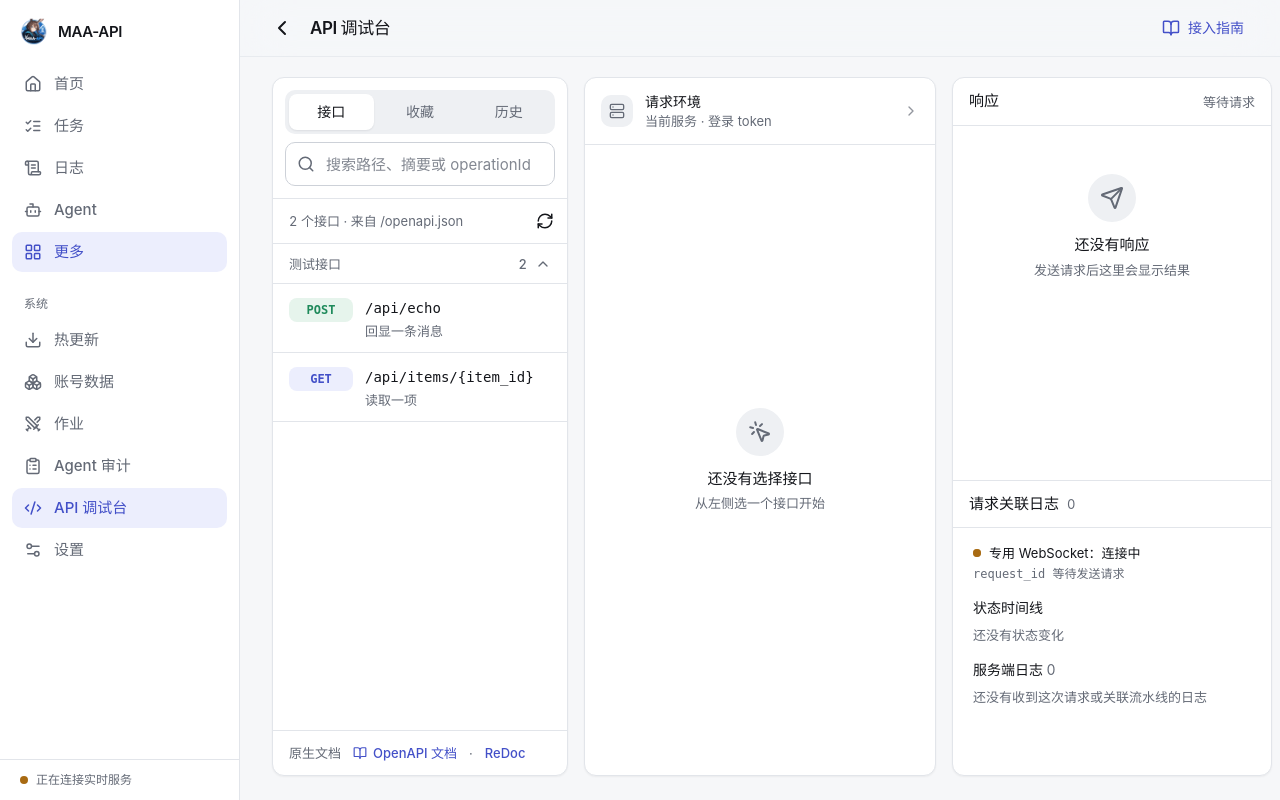
API console › K8 opens an isolated console WebSocket for a remote Base URL without touching shared realtime state or logs
The width and height of the screenshot is (1280, 800).
expect the heading "API 调试台" is shown: met, box [310, 18, 390, 38]
Click the button "请求环境 当前服务 · 登录 token": (760, 111) [591, 84, 929, 138]
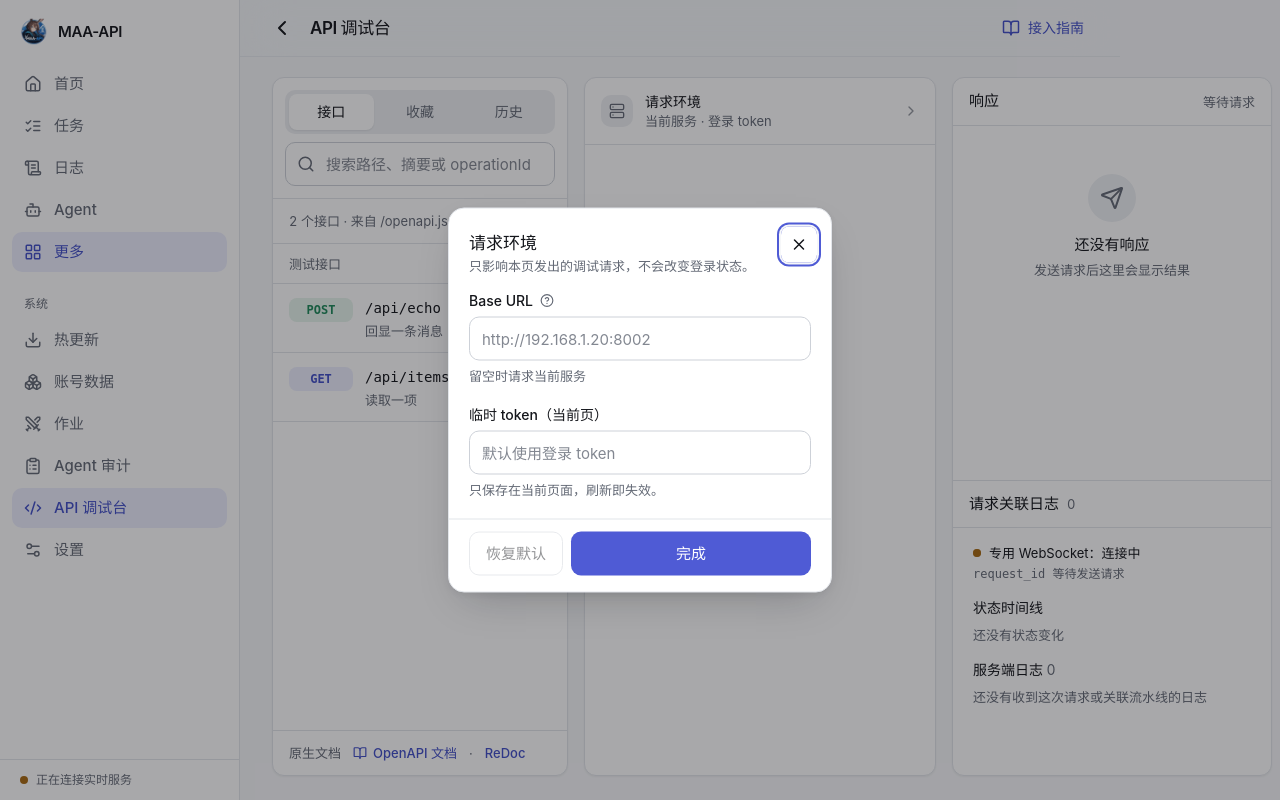
In the field labelled "Base URL": (640, 338) [469, 316, 811, 360], type "http://maa-box.local:8002/base"
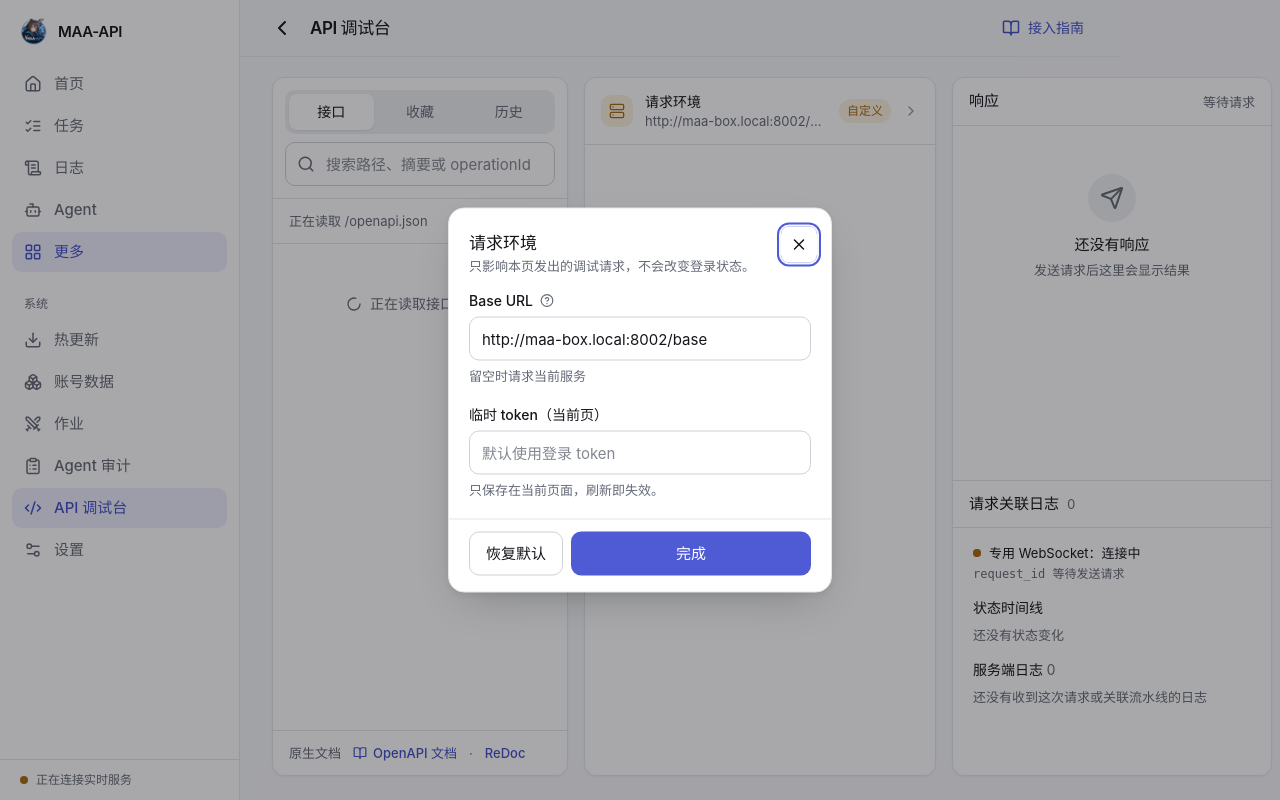
Click the button "完成": (691, 554) [571, 532, 811, 576]
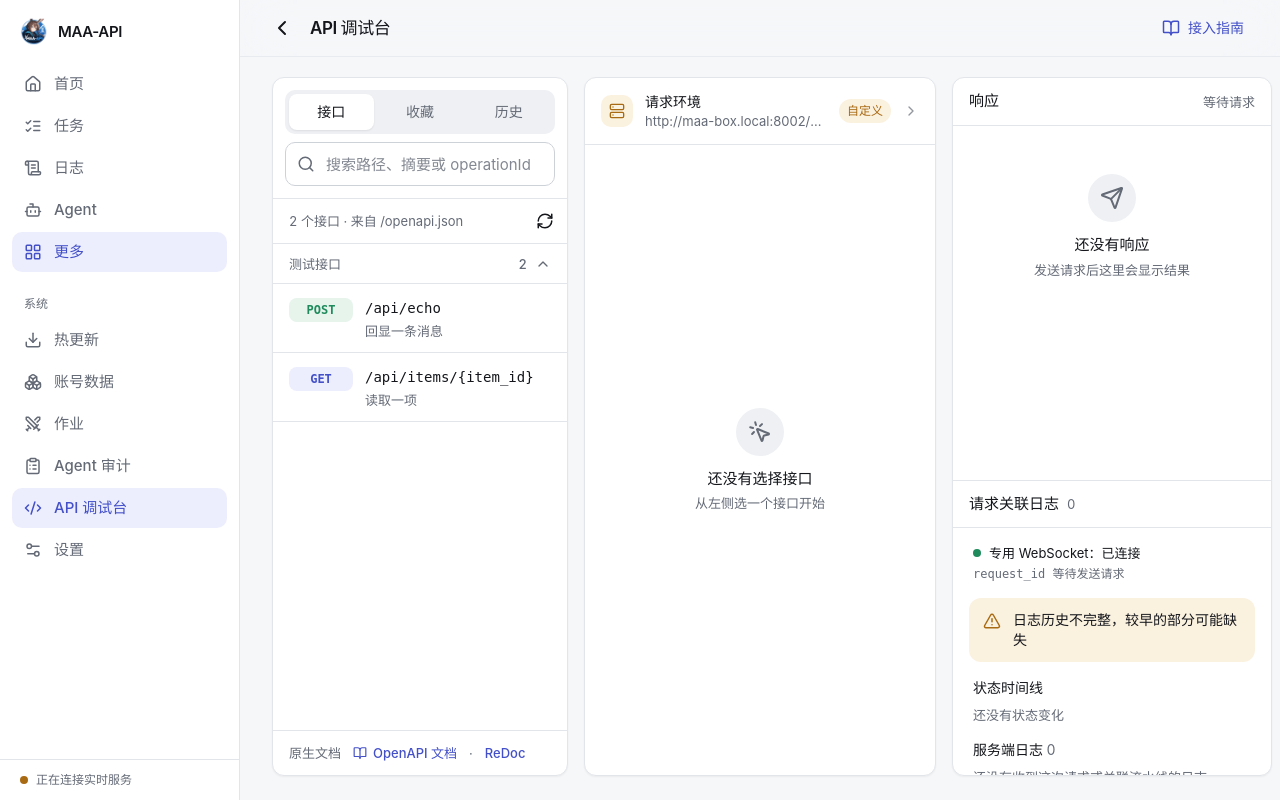
expect the text "日志历史不完整，较早的部分可能缺失" is shown: met, box [1013, 610, 1241, 650]
